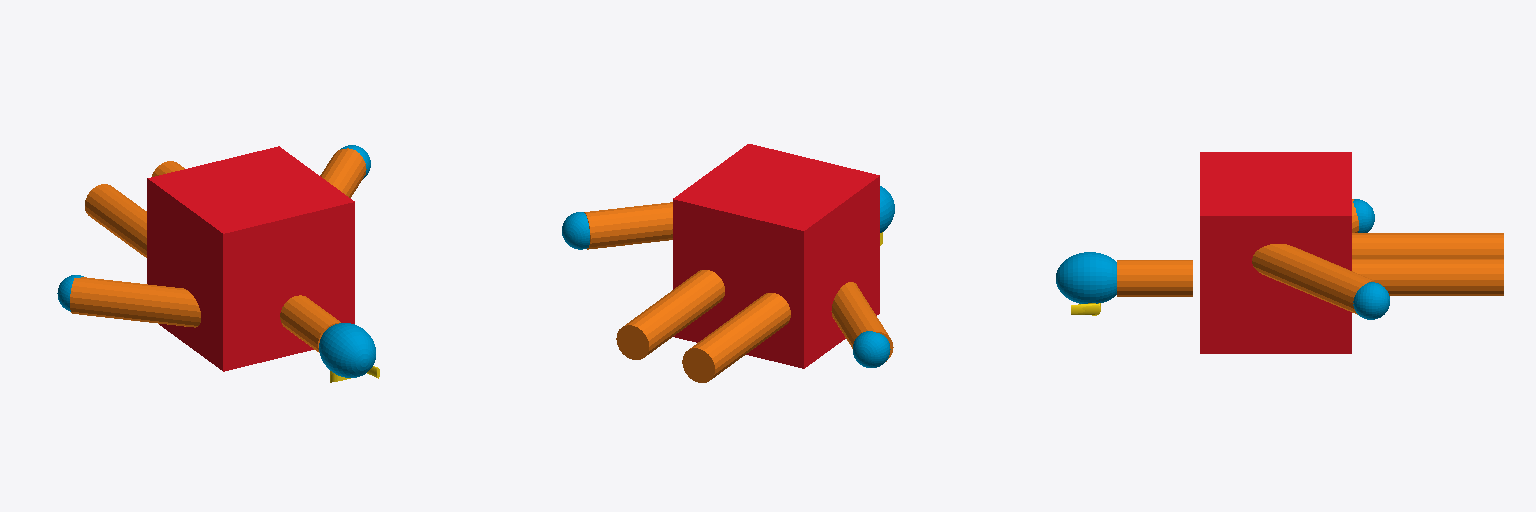
The model's file is tinker.obj.
The picture shows the model from 3 angles: view 1: azimuth 30°, elevation 25°; view 2: azimuth 150°, elevation 25°; view 3: azimuth 270°, elevation 25°; orthographic projection.
Parts seen in each view (by area): view 1: obj_0; view 2: obj_0; view 3: obj_0.
Boxes of the visible parts, x1=… form: obj_0: x1=57, y1=145, x2=379, y2=382; obj_0: x1=562, y1=144, x2=894, y2=382; obj_0: x1=1056, y1=152, x2=1503, y2=353.
Bounding box in the file's own units: 48 × 20 × 59.